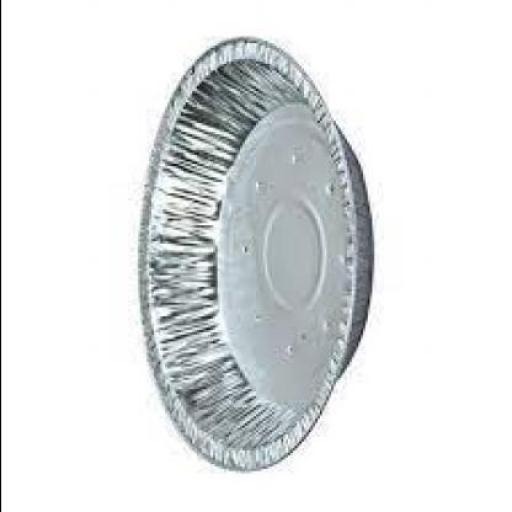metal: (134, 34, 371, 471)
